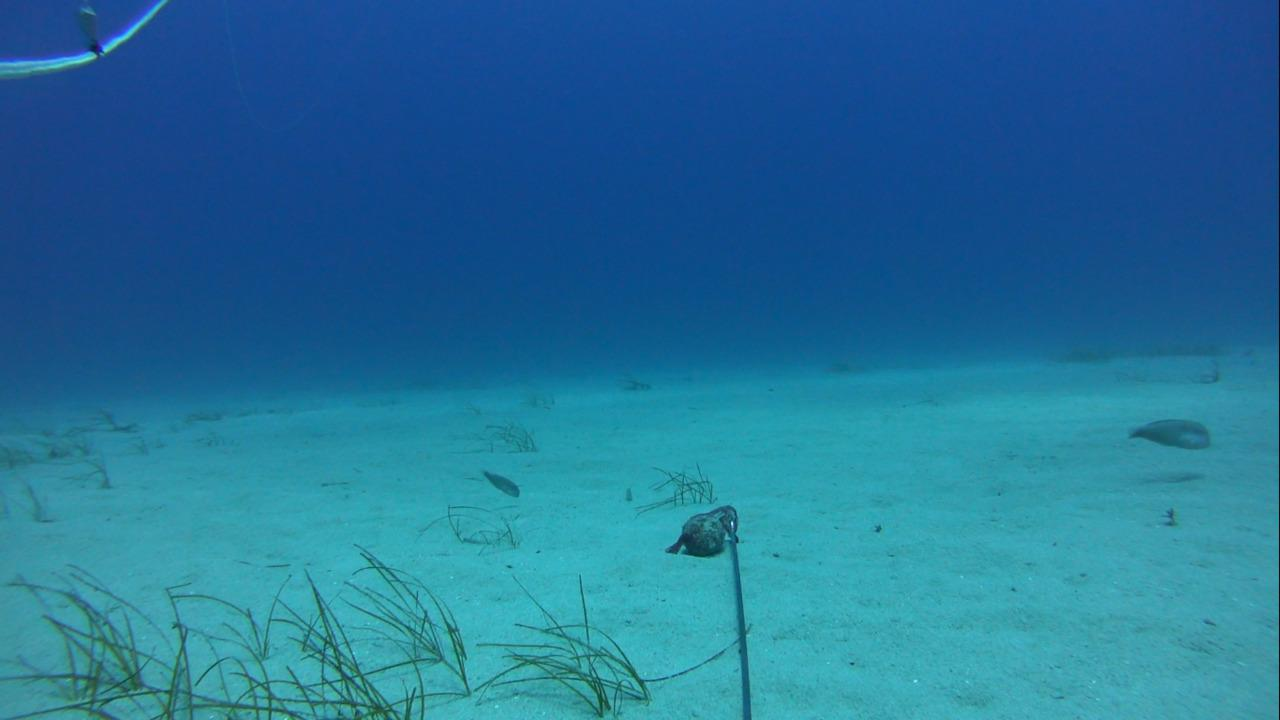raor: (1115, 411, 1220, 454), (473, 462, 528, 506)
